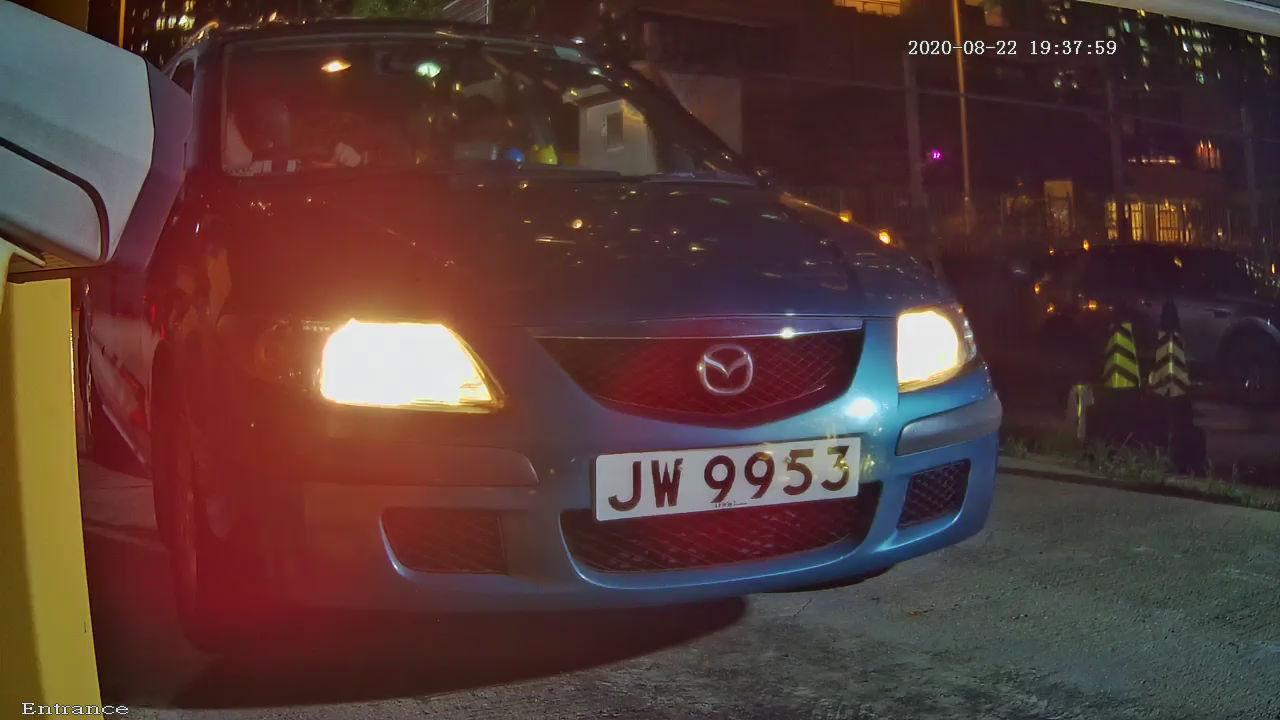Car: (41, 17, 1081, 676)
License Plate: (526, 395, 961, 576)
